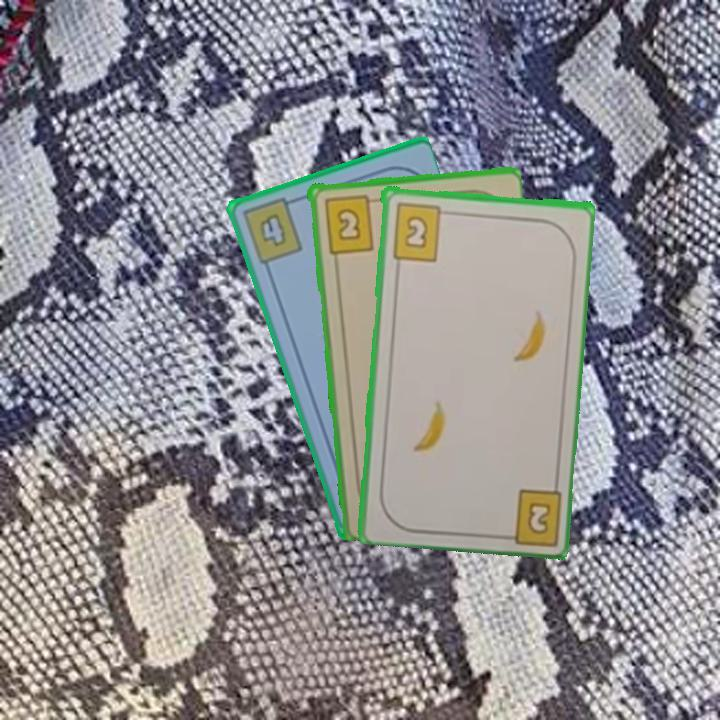2b: (388, 199, 453, 263), (495, 484, 563, 545), (320, 191, 381, 256)
4b: (238, 194, 306, 267)
